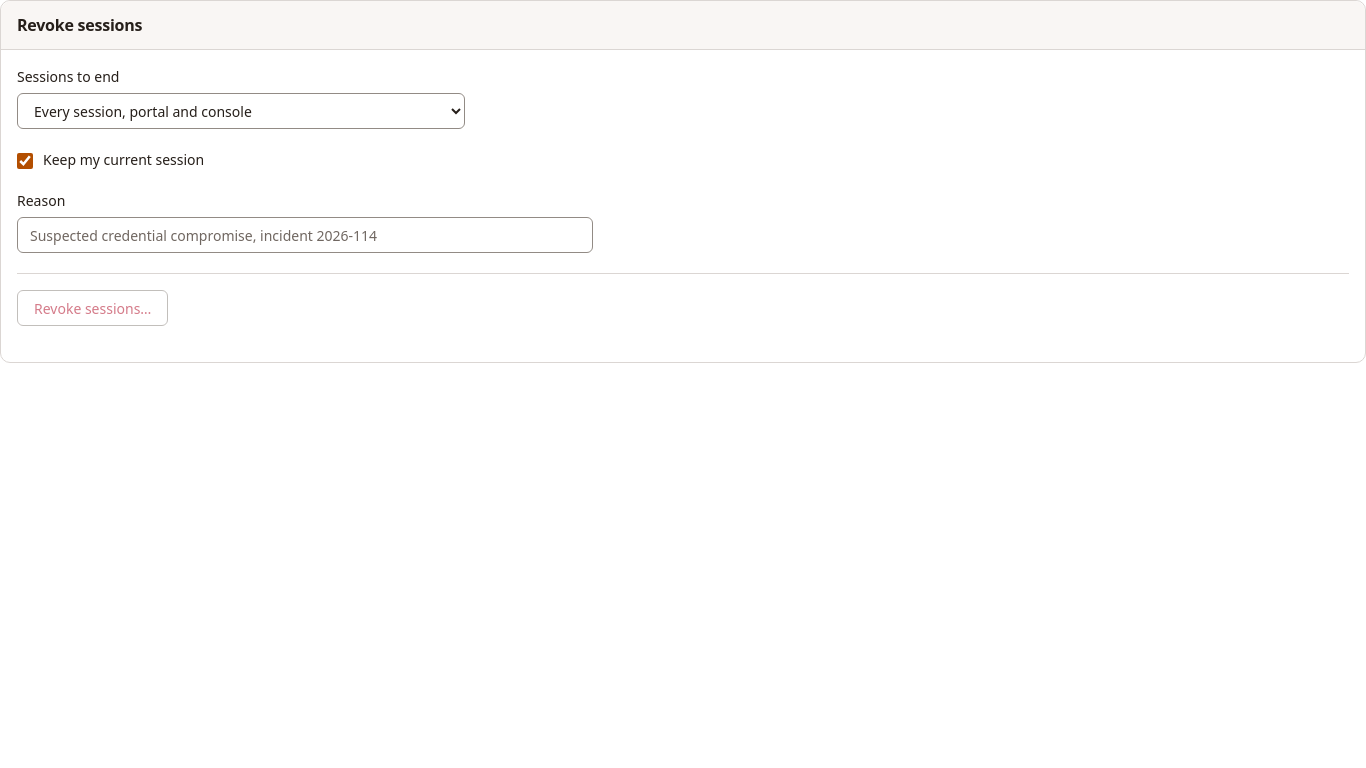
Test case: SettingsSessionsTab › shows any other refusal in the server's words
Type "Suspected credential compromise" into the field labelled "Reason" at (305, 235), box [17, 217, 593, 253]
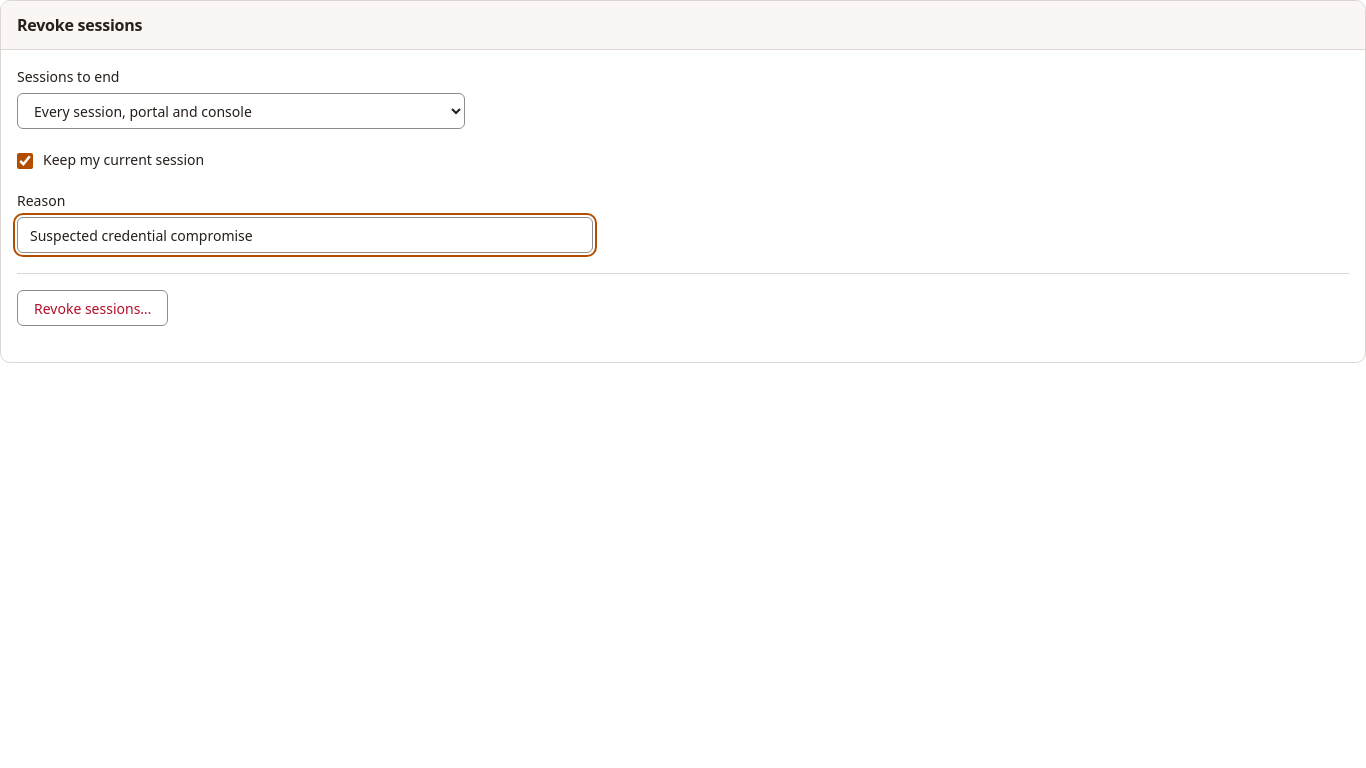
Click the button "Revoke sessions…" at (93, 308), box [17, 290, 168, 326]
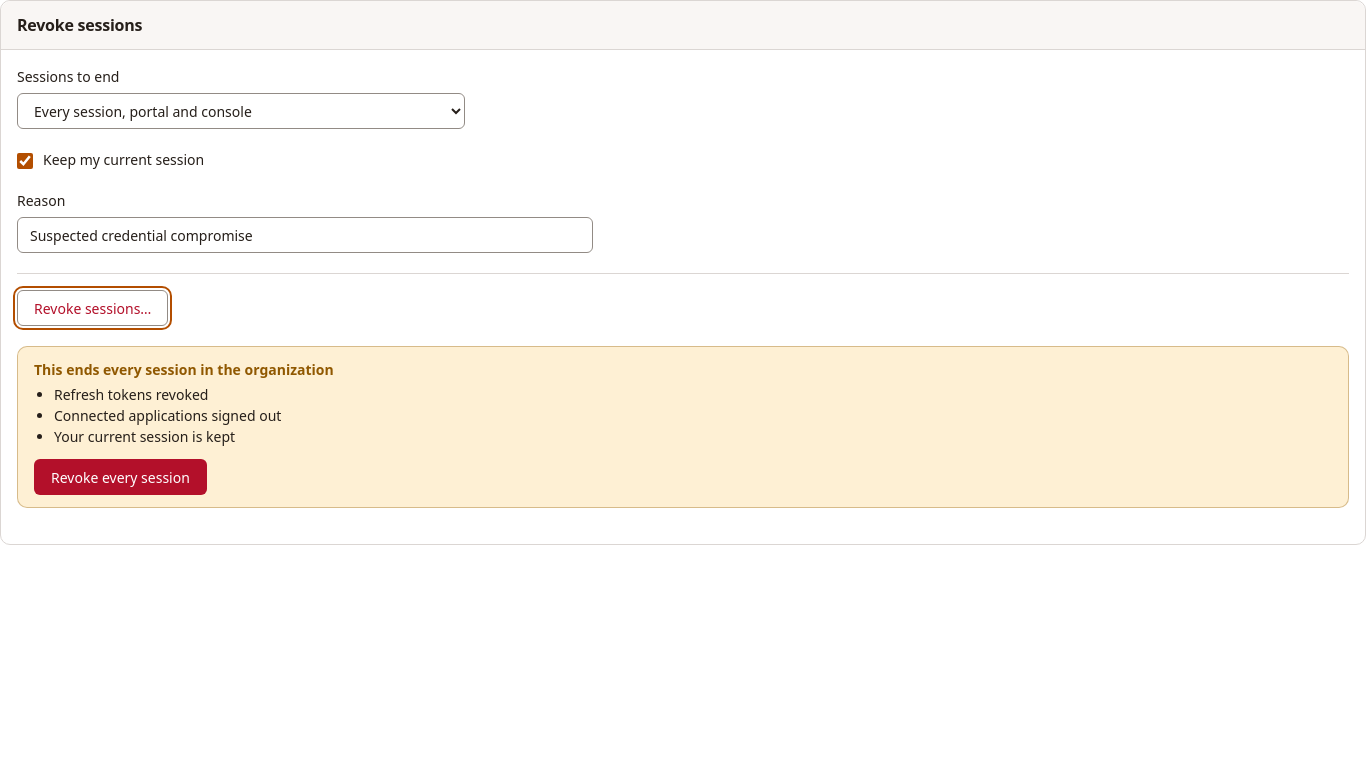
Click the button "Revoke every session" at (120, 477), box [34, 459, 207, 495]
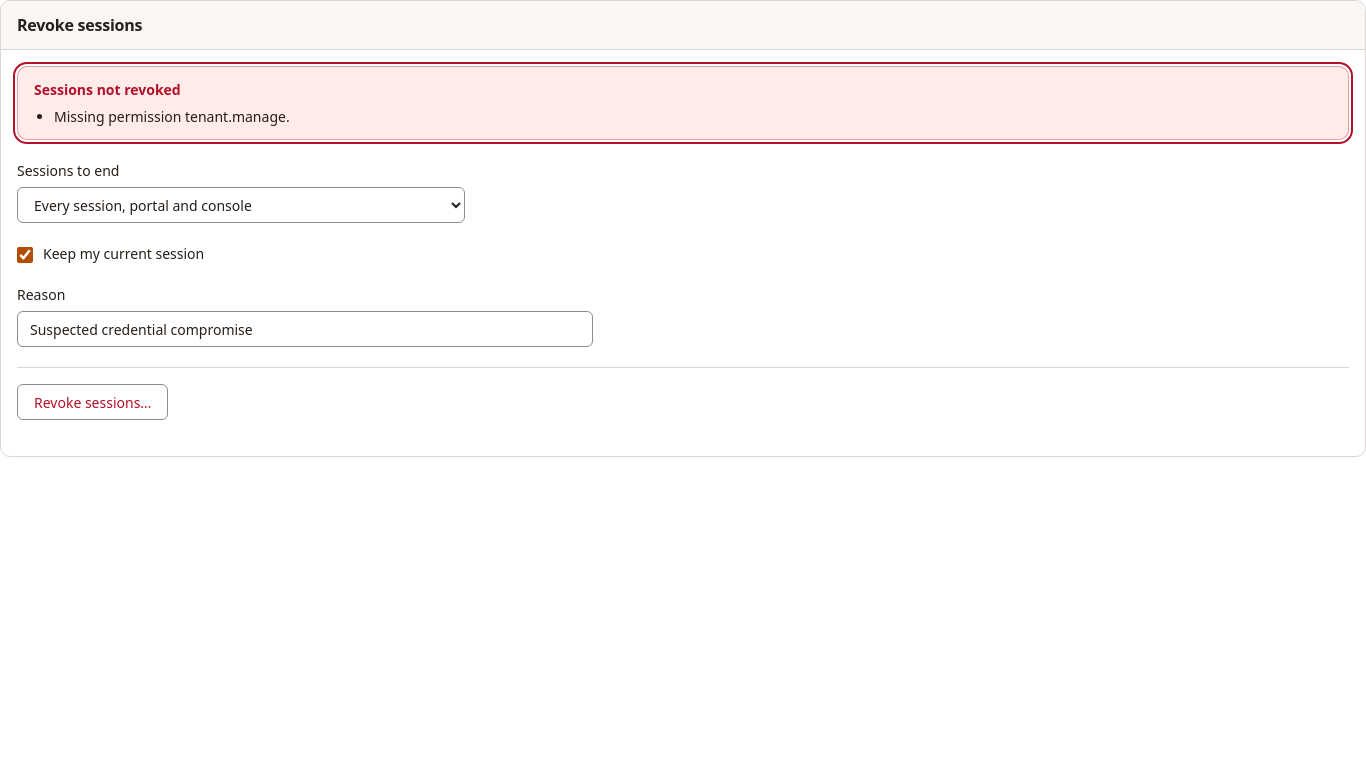
expect the list item "Missing permission tenant.manage." is shown: met, box [54, 107, 290, 126]
